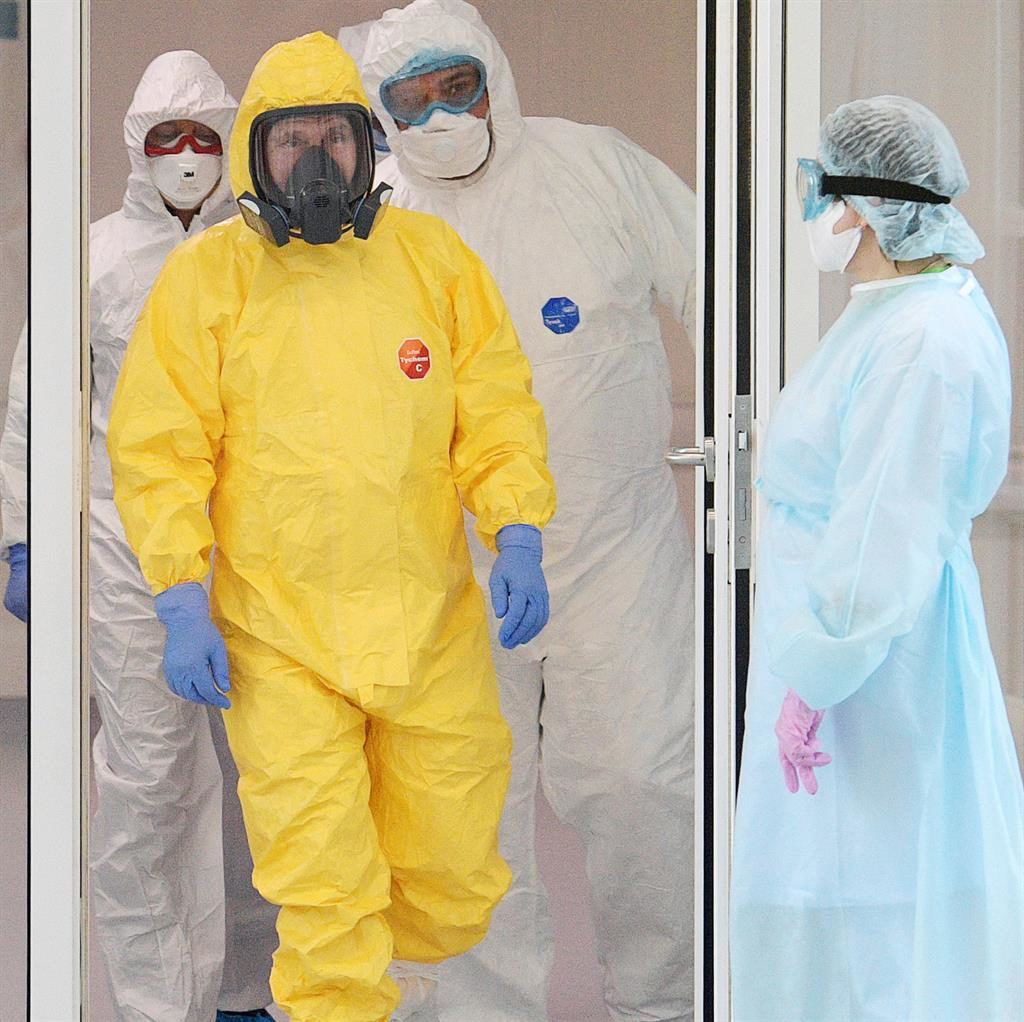Coverall: (123, 39, 551, 1022), (376, 4, 694, 1010)
Goggles: (373, 56, 493, 124), (142, 111, 234, 164), (791, 155, 862, 213)
with_mask: (232, 103, 396, 247), (388, 105, 511, 186), (801, 190, 878, 285), (142, 133, 226, 212)
